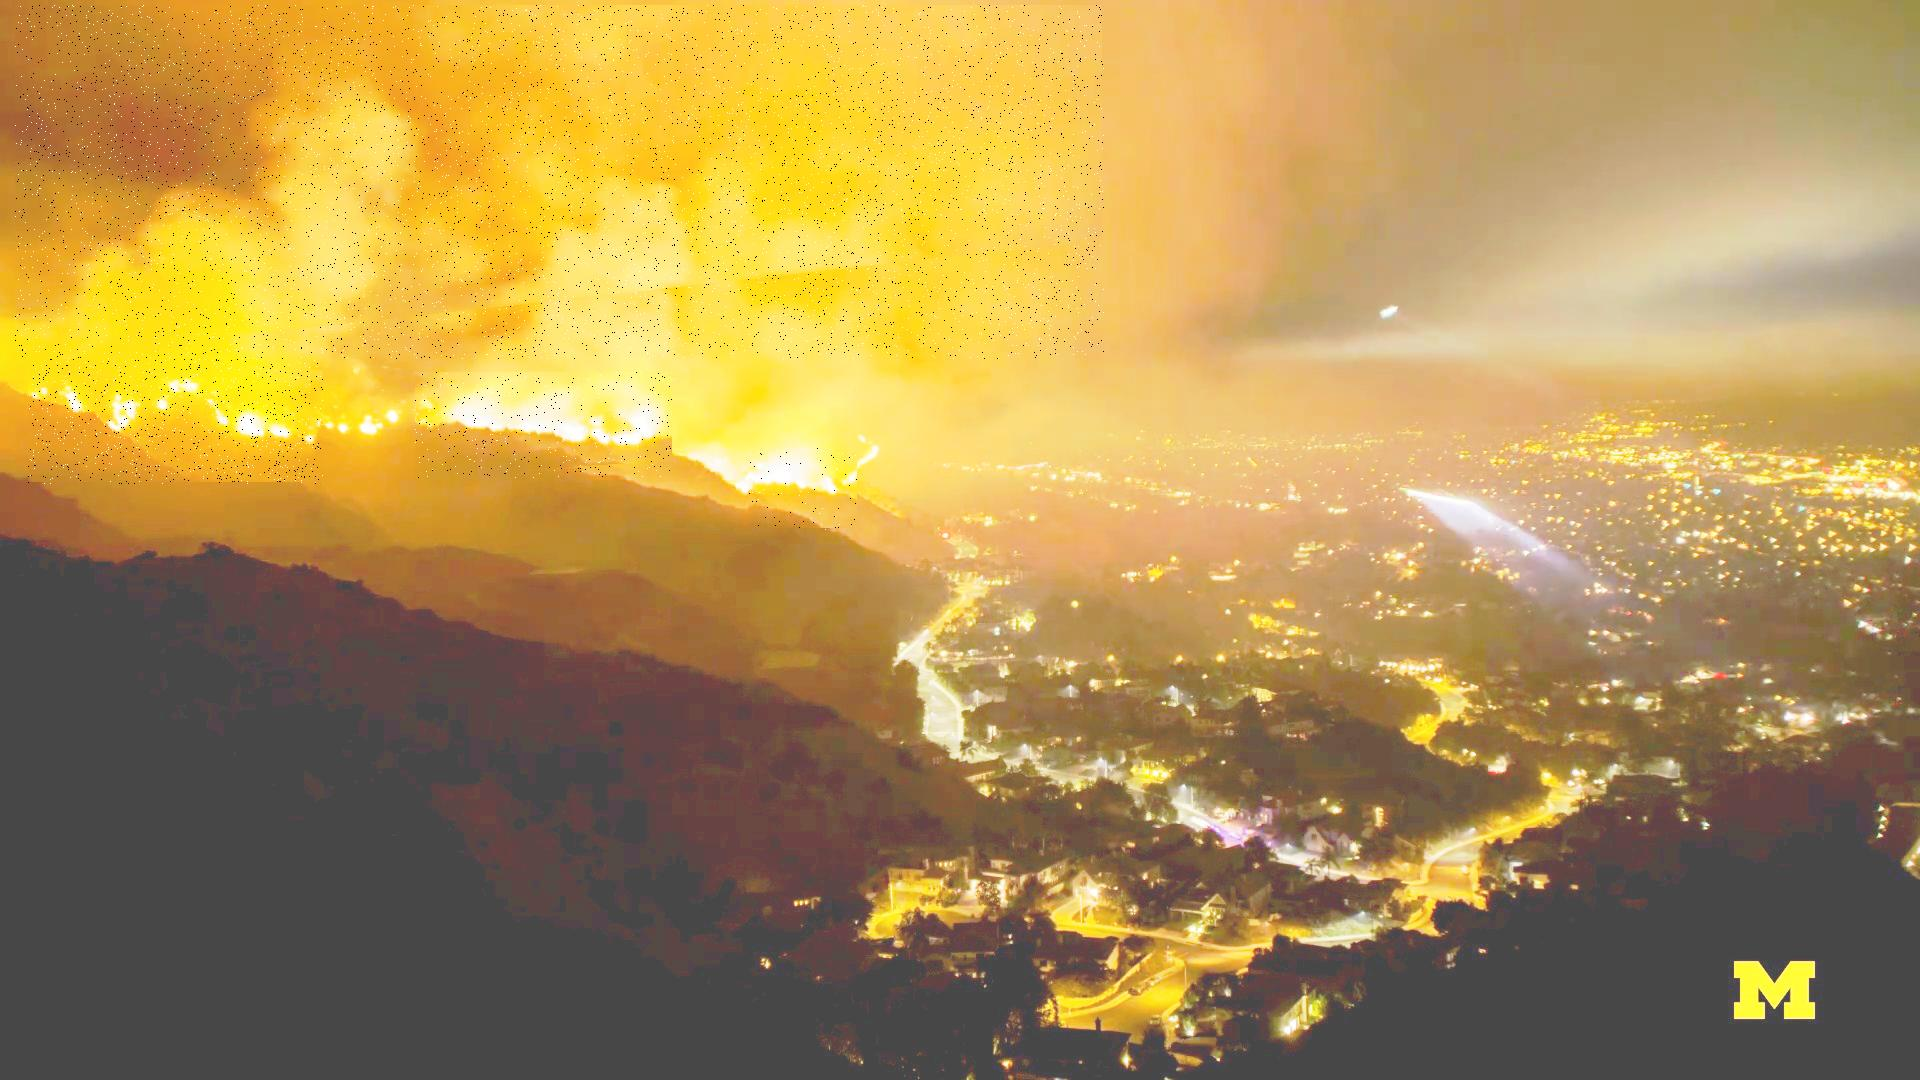fire: (28, 356, 323, 484), (415, 373, 675, 479), (748, 448, 857, 530)
smoke: (16, 5, 1105, 359)
